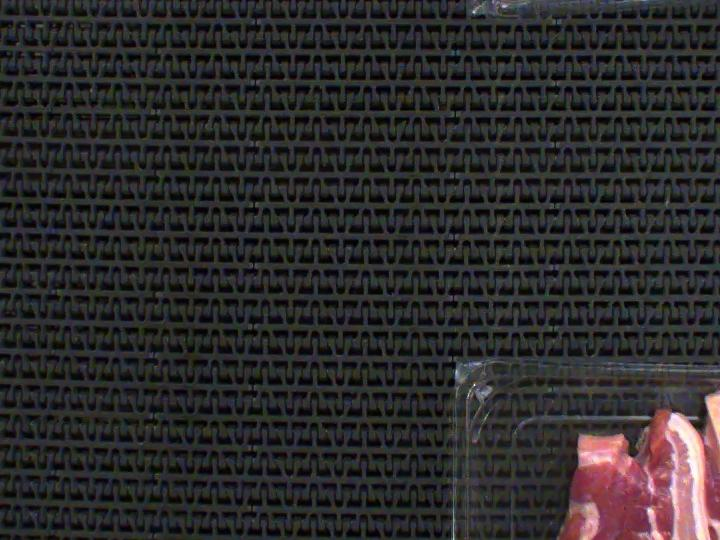twisted-meat: (693, 385, 720, 540)
